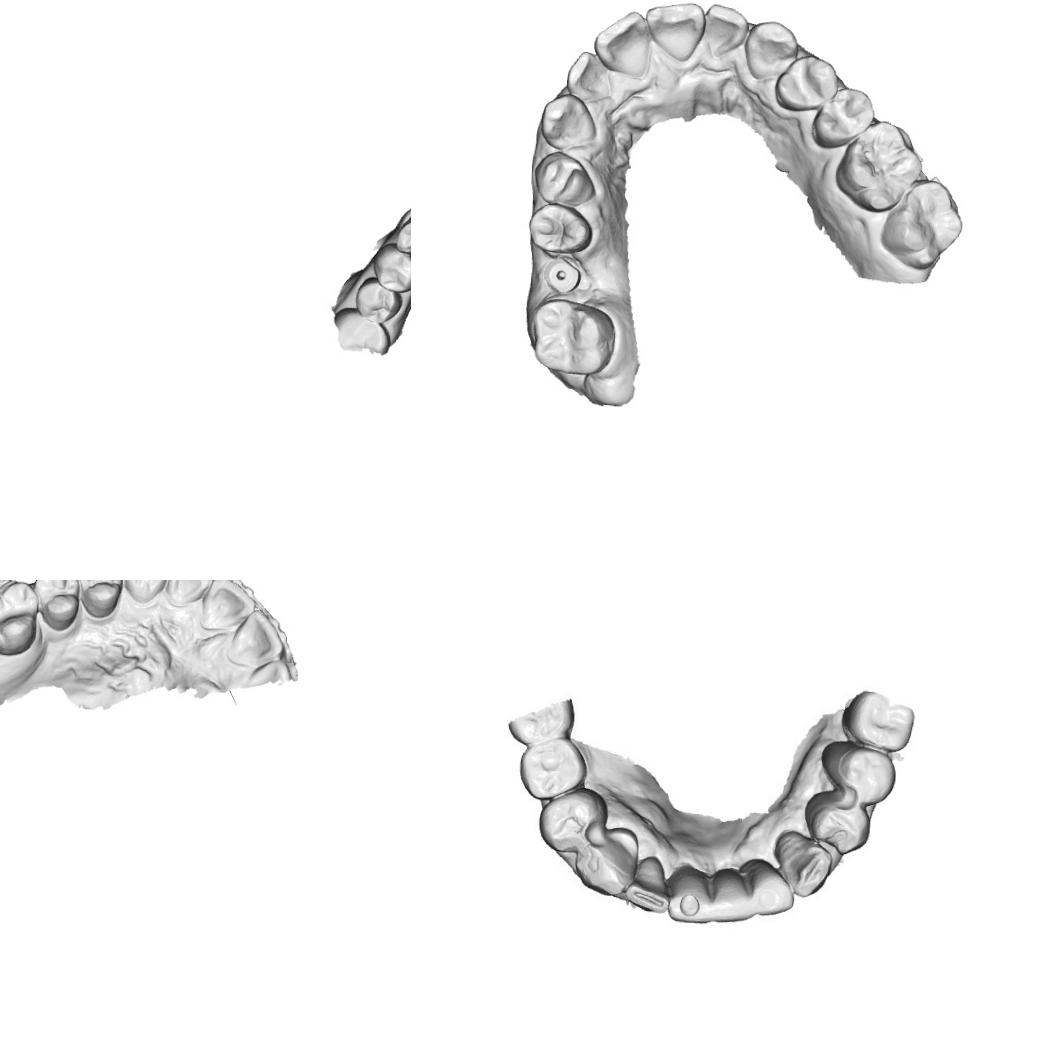canine: (574, 825, 640, 898), (772, 830, 834, 899), (740, 17, 800, 84), (537, 92, 599, 152), (118, 580, 171, 606), (392, 208, 411, 261)
implant: (540, 256, 583, 294)
incisor: (589, 8, 654, 76), (641, 0, 704, 64), (227, 610, 284, 669), (742, 856, 796, 917), (666, 865, 714, 925), (624, 854, 671, 915), (200, 580, 258, 629), (698, 2, 748, 57), (563, 48, 615, 100), (711, 866, 756, 924), (165, 580, 214, 610)
molar: (878, 175, 964, 276), (834, 118, 921, 214), (525, 298, 616, 376), (838, 688, 916, 753), (0, 580, 40, 658)
premolar: (819, 740, 898, 807), (536, 784, 610, 854), (518, 735, 589, 802), (809, 82, 880, 148), (802, 789, 871, 856), (529, 150, 598, 210), (773, 53, 842, 112), (529, 203, 594, 255), (352, 274, 404, 324), (31, 580, 81, 632), (370, 241, 411, 294), (73, 580, 126, 620)
